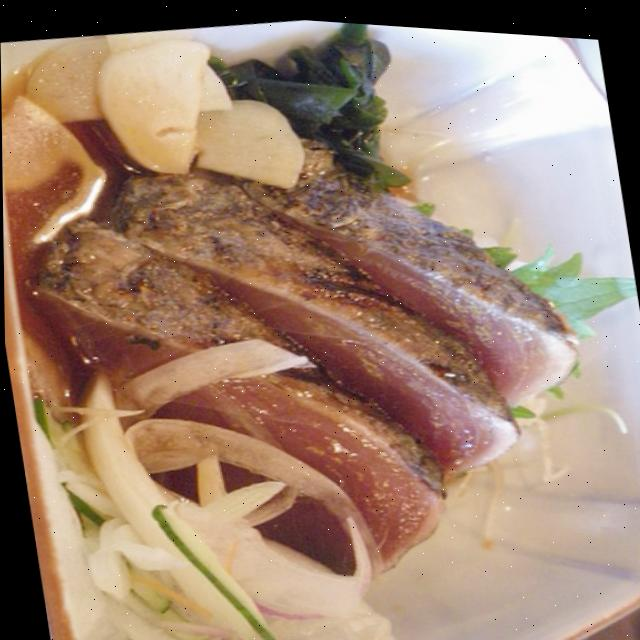熟制海鲜: (6, 39, 619, 640)
